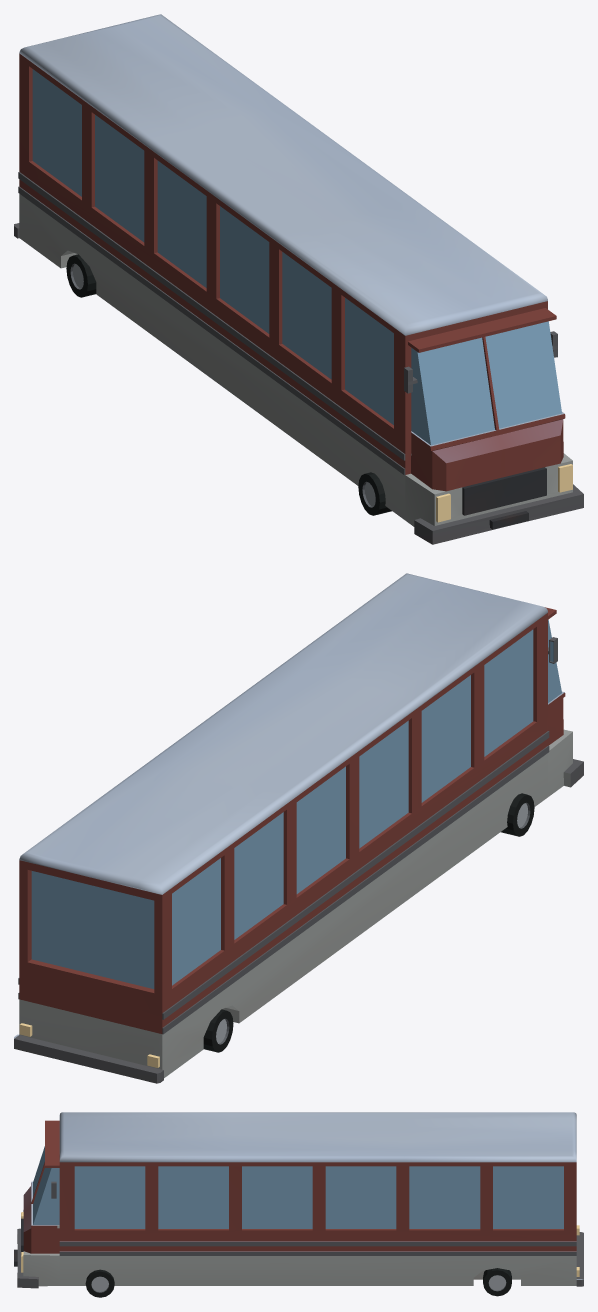
Rendered from bus_clean.glb.
3 renders of one model, top to bottom at view 1: azimuth 30°, elevation 25°; view 2: azimuth 150°, elevation 25°; view 3: azimuth 270°, elevation 25°, orthographic. The views are drawn at different scales.
Parts seen in each view (by area): view 1: Body, Glass; view 2: Body, Glass; view 3: Body, Glass.
Boxes of the visible parts, x1,y1,x2,y2 form: Body: (14,14,583,544); Glass: (32,69,561,445); Body: (14,573,583,1083); Glass: (31,619,561,988); Body: (14,1112,583,1297); Glass: (33,1146,563,1228).
Bounding box in the file's own units: 2.55 × 3.23 × 12.
